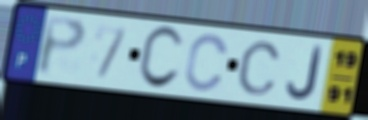7: (92, 23, 128, 80)
C: (135, 24, 186, 92), (182, 32, 231, 94), (235, 39, 284, 97)
J: (285, 44, 325, 103)
P: (35, 14, 90, 79)
